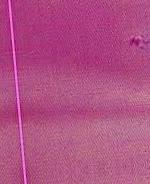knot: (128, 31, 149, 51)
